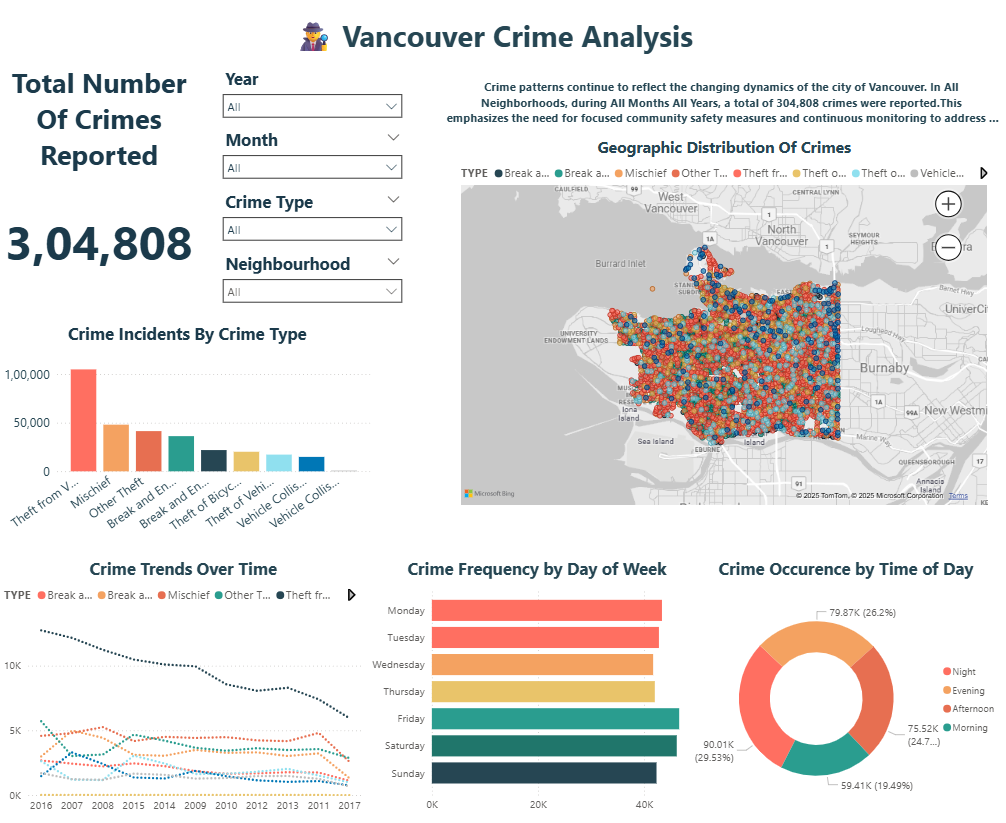

What the dashboard file says about the page in this screenshot:
{"tool":"powerbi","page":{"name":"Page 1","canvas":[1300,1100],"ordinal":0},"visuals":[{"type":"columnChart","title":"Crime Incidents By Crime Type","fields":{"Y":["CountNonNull(crime.TYPE)"],"Category":["crime.TYPE"]},"box":[4.3,417.1,480,281.4],"z":0},{"type":"map","title":"Geographic Distribution Of Crimes","fields":{"Y":["crime.Latitude"],"X":["crime.Longitude"],"Series":["crime.TYPE"]},"box":[590,178.3,685,478.3],"z":1000},{"type":"card","title":"Total Number Of Crimes Reported","fields":{"Values":["CountNonNull(crime.TYPE)"]},"box":[4,86,254,312],"z":2000},{"type":"slicer","fields":{"Values":["crime.YEAR"]},"box":[280,84,250,78],"z":3000},{"type":"slicer","fields":{"Values":["crime.MONTH"]},"box":[280,162.2,250,80],"z":4000},{"type":"slicer","fields":{"Values":["crime.TYPE"]},"box":[280,242.2,250,80],"z":5000},{"type":"slicer","fields":{"Values":["crime.NEIGHBOURHOOD"]},"box":[280,322.2,250,80],"z":6000},{"type":"barChart","title":"Crime Frequency by Day of Week","fields":{"Category":["crime.DayOfWeek"],"Y":["CountNonNull(crime.TYPE)"]},"box":[470,718.3,443.3,335],"z":7000},{"type":"donutChart","title":"Crime Occurence by Time of Day","fields":{"Category":["crime.TimeOfDay"],"Y":["CountNonNull(crime.TYPE)"]},"box":[883.3,718.3,410,335],"z":8000},{"type":"textbox","box":[9.1,19,1265.9,66.2],"z":9000},{"type":"lineChart","title":"Crime Trends Over Time","fields":{"Category":["crime.YEAR"],"Y":["CountNonNull(crime.TYPE)"],"Series":["crime.TYPE"]},"box":[4,718,470,336],"z":10000},{"type":"card","fields":{"Values":["crime.DynamicNarrative"]},"box":[567.9,84.6,725.6,105.1],"z":11000}]}

Visuals, with their boxes on the page's 1300x1100 design canvas (x1, y1, x2, y2). These are canvas units, not pixel positions in the 1006x823 screenshot, which may show the page scaled, cropped or inside an application window:
"Crime Incidents By Crime Type" columnChart: [4, 417, 484, 698]
"Geographic Distribution Of Crimes" map: [590, 178, 1275, 657]
"Total Number Of Crimes Reported" card: [4, 86, 258, 398]
slicer - crime.YEAR: [280, 84, 530, 162]
slicer - crime.MONTH: [280, 162, 530, 242]
slicer - crime.TYPE: [280, 242, 530, 322]
slicer - crime.NEIGHBOURHOOD: [280, 322, 530, 402]
"Crime Frequency by Day of Week" barChart: [470, 718, 913, 1053]
"Crime Occurence by Time of Day" donutChart: [883, 718, 1293, 1053]
textbox: [9, 19, 1275, 85]
"Crime Trends Over Time" lineChart: [4, 718, 474, 1054]
card - crime.DynamicNarrative: [568, 85, 1294, 190]
